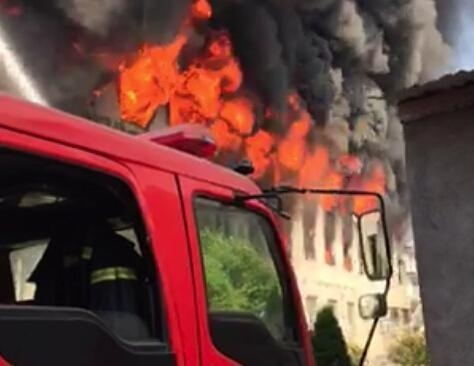fire: (114, 4, 375, 197)
